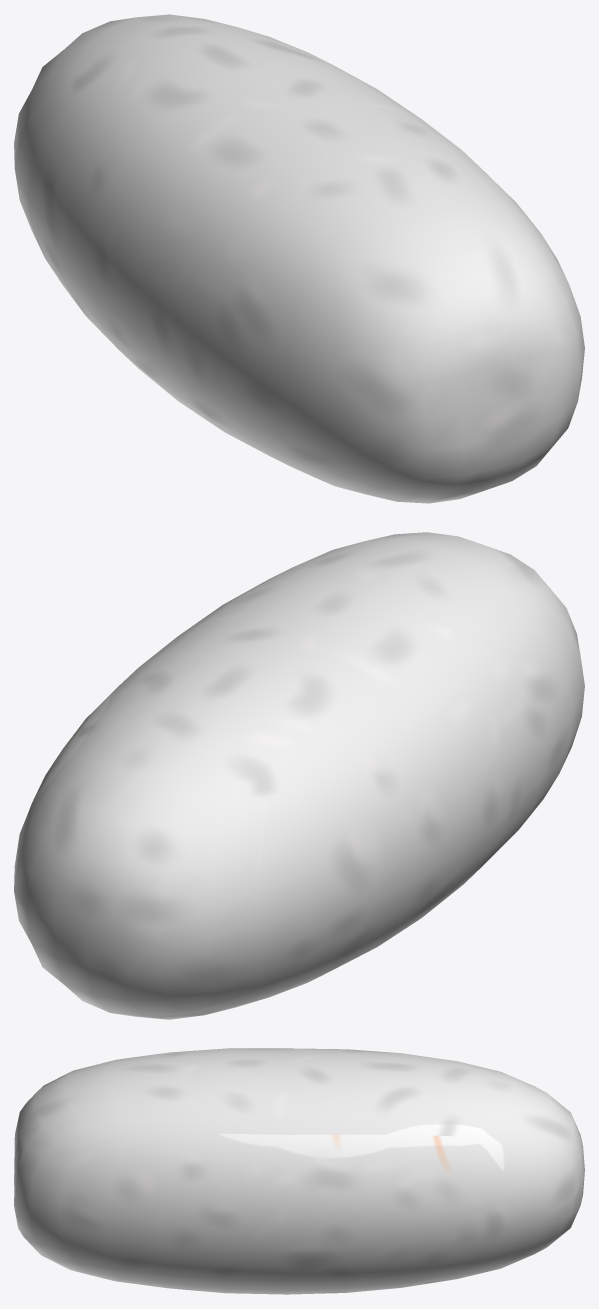
File: syari.fbx
3 renders of one model, top to bottom at view 1: azimuth 30°, elevation 25°; view 2: azimuth 150°, elevation 25°; view 3: azimuth 270°, elevation 25°, orthographic. The views are drawn at different scales.
Visible parts, largest first — view 1: Shari_Maguro; view 2: Shari_Maguro; view 3: Shari_Maguro.
Boxes of the visible parts, x1,y1,x2,y2 form: Shari_Maguro: [14, 14, 584, 503]; Shari_Maguro: [14, 532, 584, 1019]; Shari_Maguro: [14, 1048, 584, 1294].
Bounding box in the file's own units: 0.8498 × 0.7487 × 1.81.
1 material, 1 textured.
